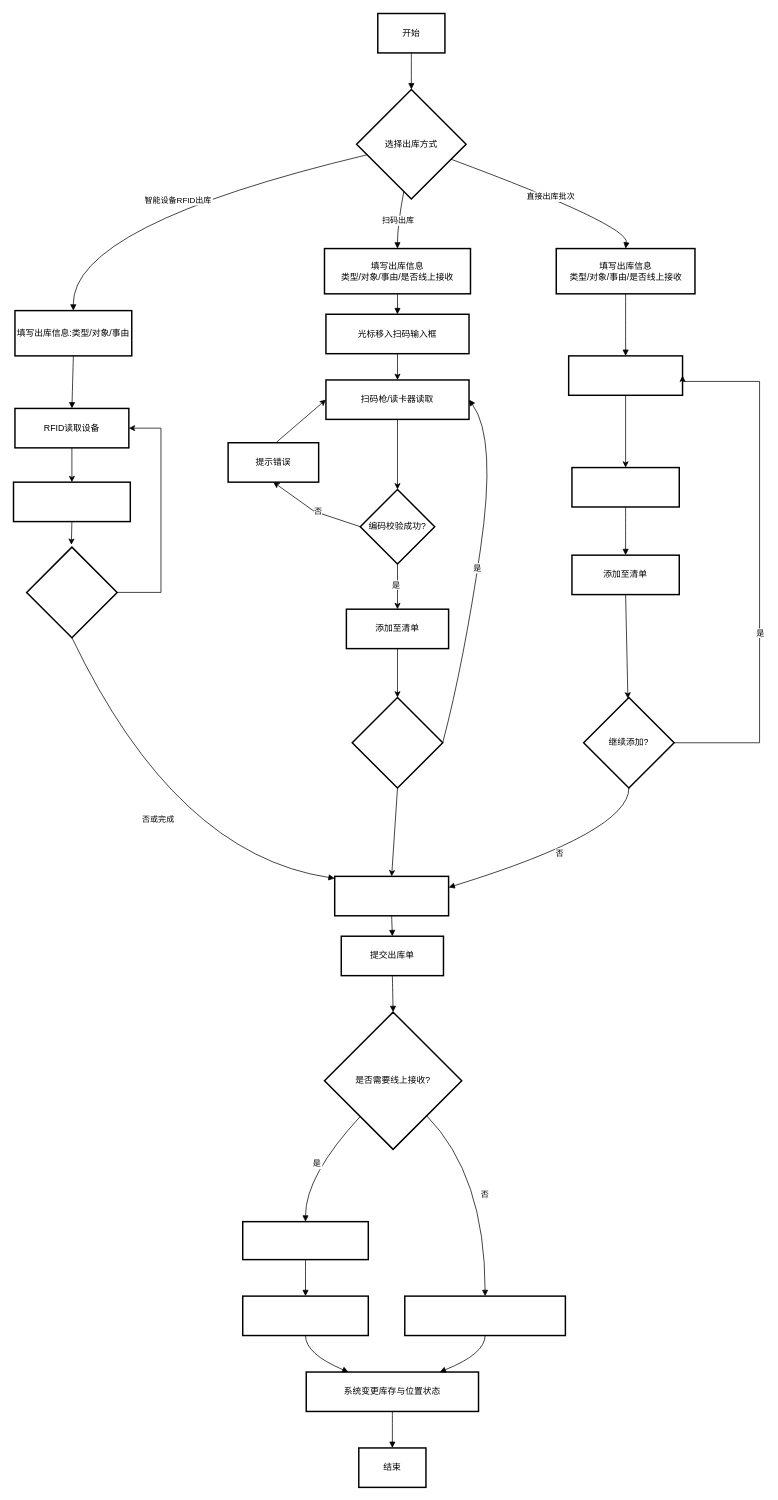
The diagram is 778 pixels wide and 1500 high, and some of its shapes have lost their labels. Here are the shapes that lost their labels. From the top down, the centre of each, then its label:
pixel 625 375: 筛选装备批次
pixel 71 501: 设备自动添加至出库清单
pixel 625 486: 填写出库数量
pixel 72 592: 继续识别？
pixel 397 742: 继续扫码?
pixel 391 895: 核对出库清单
pixel 305 1240: 系统生成出库单,状态:待接收
pixel 305 1315: 接收人确认接收
pixel 485 1315: 系统自动生成出库记录
